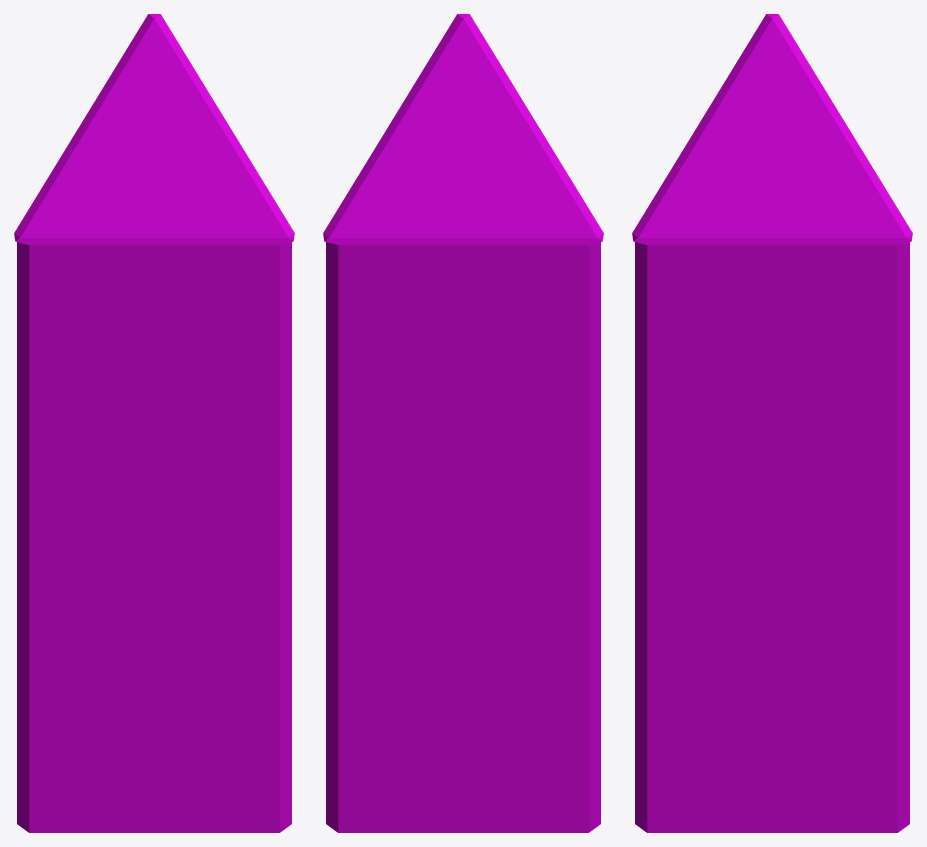
Rendered from WeaponPyramide.fbx.
The picture shows the model from 3 angles, left to right: view 1: azimuth 30°, elevation 25°; view 2: azimuth 150°, elevation 25°; view 3: azimuth 270°, elevation 25°; orthographic projection.
Visible parts, largest first — view 1: Weapon_Pyramide; view 2: Weapon_Pyramide; view 3: Weapon_Pyramide.
Part boxes in pixels (bbox=[...]): Weapon_Pyramide: bbox=[14, 14, 294, 832]; Weapon_Pyramide: bbox=[323, 14, 603, 832]; Weapon_Pyramide: bbox=[632, 14, 912, 832].
Size of the model in its own units: 11.58 by 40.39 by 13.16.
